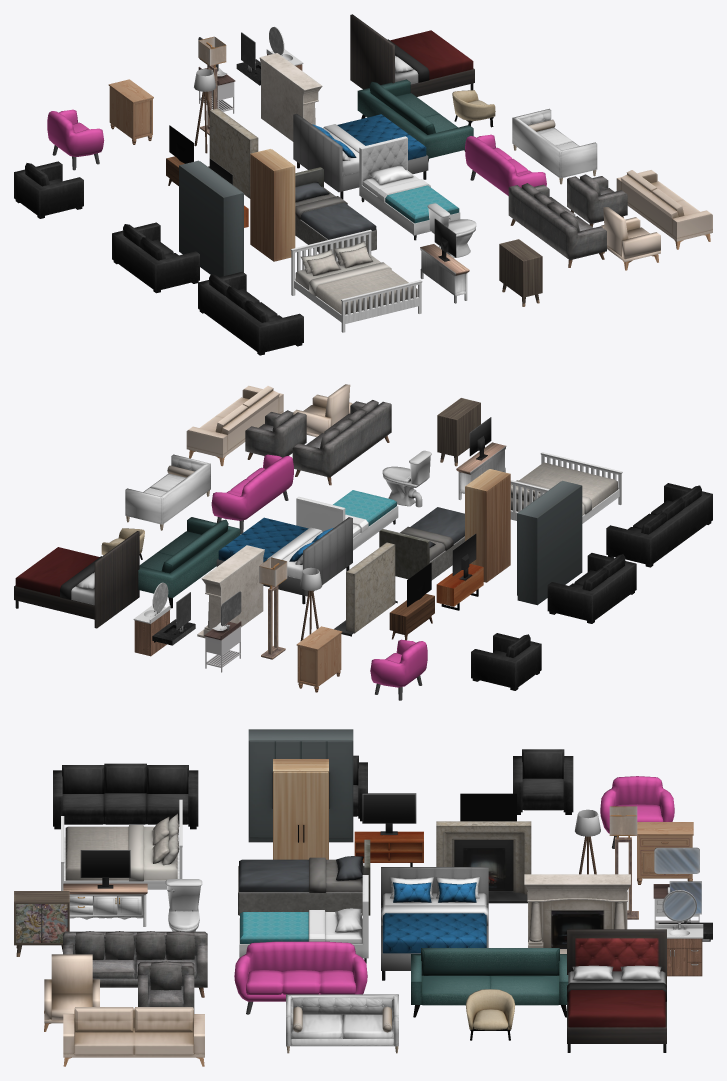
Rendered from furniture.glb.
3 renders of one model, top to bottom at view 1: azimuth 30°, elevation 25°; view 2: azimuth 150°, elevation 25°; view 3: azimuth 270°, elevation 25°, orthographic. The views are drawn at different scales.
Visible parts, largest first — view 1: doubleBed02, doubleBed03, doubleCloset01, doubleBed01, singleBed01, Three-seaterSofa01, singleCloset01, four-seaterSofa01, four-seaterSofa02, singleBed02, two-seaterSofa01, four-seaterSofa03 (+19 smaller); view 2: doubleBed03, doubleCloset01, doubleBed01, Three-seaterSofa01, four-seaterSofa01, four-seaterSofa02, singleCloset01, two-seaterSofa01, doubleBed02, singleBed02, four-seaterSofa03, Three-seaterSofa02 (+19 smaller); view 3: doubleBed03, doubleBed01, Three-seaterSofa01, four-seaterSofa01, doubleCloset01, four-seaterSofa03, singleBed02, Three-seaterSofa03, wallMountedFireplace02, doubleBed02, Three-seaterSofa02, wallMountedFireplace01 (+20 smaller).
Part boxes in pixels (<box>): doubleBed02: <box>290,229,422,332</box>; doubleBed03: <box>350,14,474,96</box>; doubleCloset01: <box>179,160,243,277</box>; doubleBed01: <box>293,113,428,199</box>; singleBed01: <box>359,136,460,240</box>; Three-seaterSofa01: <box>198,271,303,355</box>; singleCloset01: <box>250,149,295,261</box>; four-seaterSofa01: <box>357,79,473,161</box>; four-seaterSofa02: <box>508,183,606,267</box>; singleBed02: <box>295,167,376,257</box>; two-seaterSofa01: <box>112,222,199,293</box>; four-seaterSofa03: <box>616,170,712,249</box>; doubleBed03: <box>14,531,139,628</box>; doubleCloset01: <box>517,480,582,605</box>; doubleBed01: <box>216,517,352,604</box>; Three-seaterSofa01: <box>606,483,712,567</box>; four-seaterSofa01: <box>138,517,240,608</box>; four-seaterSofa02: <box>292,400,391,485</box>; singleCloset01: <box>465,469,510,582</box>; two-seaterSofa01: <box>547,553,636,623</box>; doubleBed02: <box>510,452,622,523</box>; singleBed02: <box>379,507,464,580</box>; four-seaterSofa03: <box>186,385,283,466</box>; Three-seaterSofa02: <box>125,454,210,530</box>; doubleBed03: <box>567,929,666,1052</box>; doubleBed01: <box>381,867,488,980</box>; Three-seaterSofa01: <box>53,763,198,829</box>; four-seaterSofa01: <box>411,948,568,1017</box>; doubleCloset01: <box>248,729,353,842</box>; four-seaterSofa03: <box>63,1007,204,1066</box>; singleBed02: <box>238,839,370,915</box>; Three-seaterSofa03: <box>234,941,367,1014</box>; wallMountedFireplace02: <box>524,874,630,953</box>; doubleBed02: <box>61,799,182,890</box>; Three-seaterSofa02: <box>286,994,398,1053</box>; wallMountedFireplace01: <box>436,821,531,903</box>.
Bounding box in the file's own units: 9.12 × 1.69 × 9.67.
Materials: 32 (32 with a texture image).
